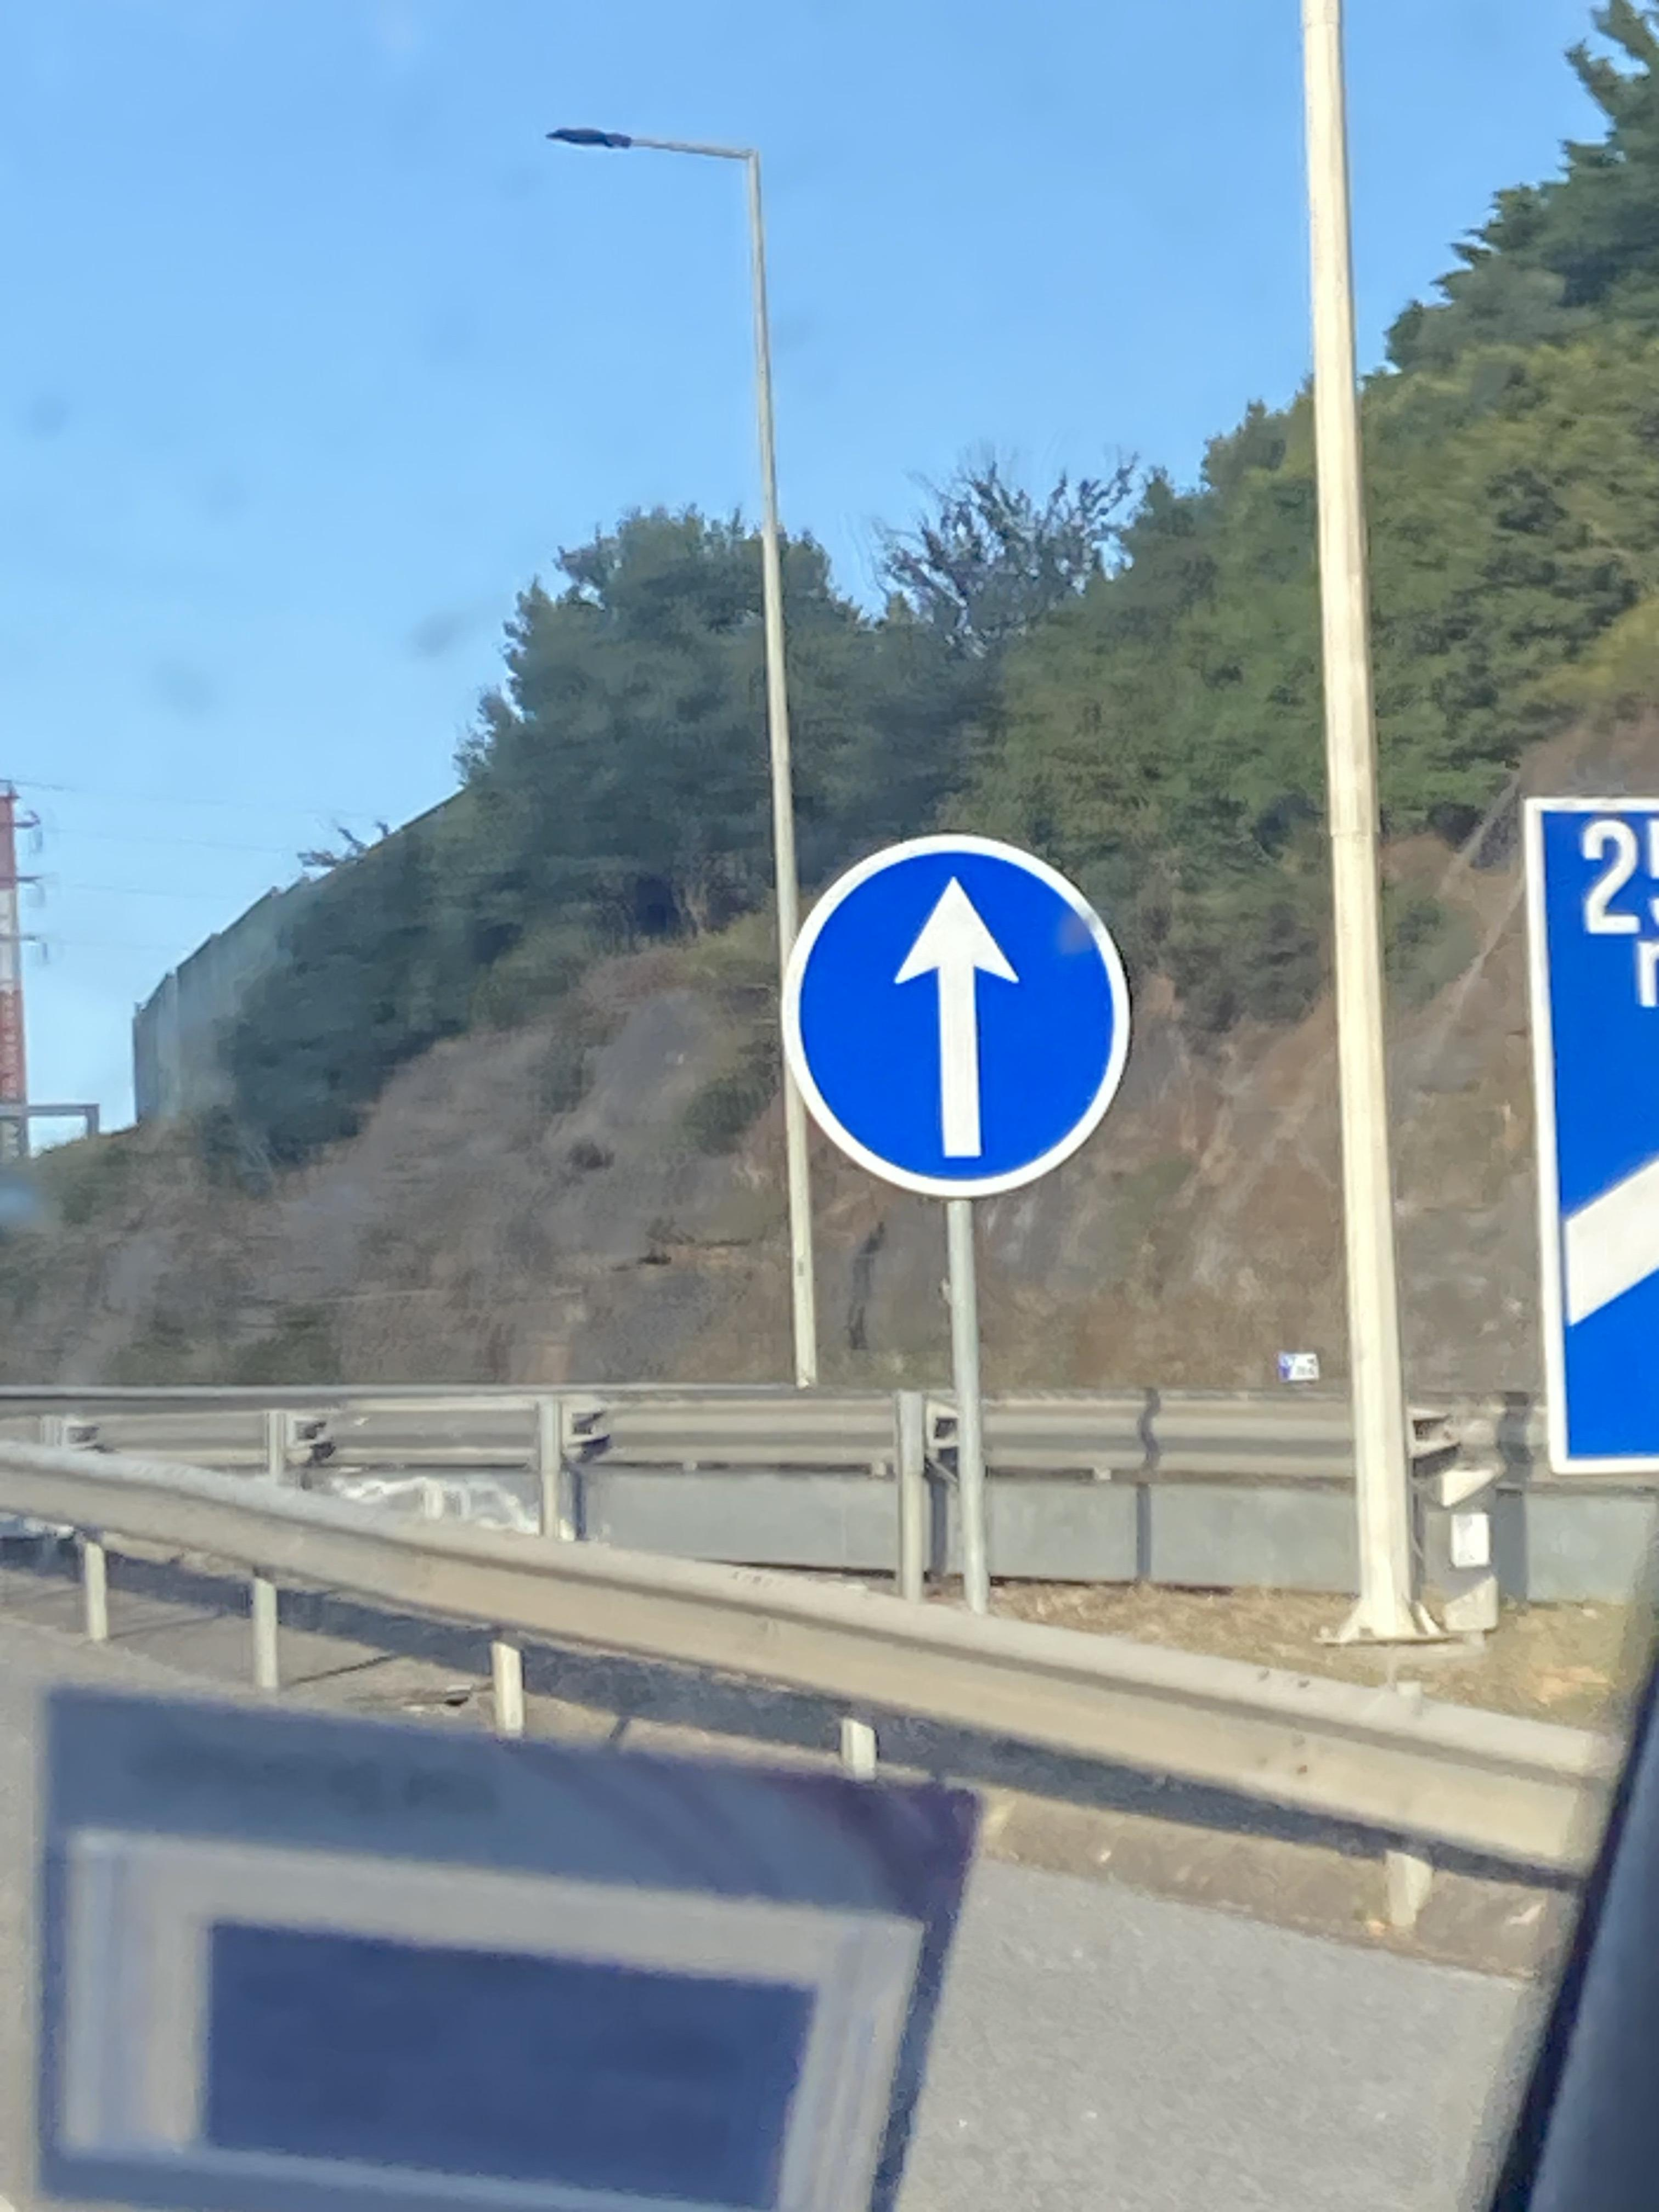sentido obrigatorio: (763, 795, 1174, 1207)
